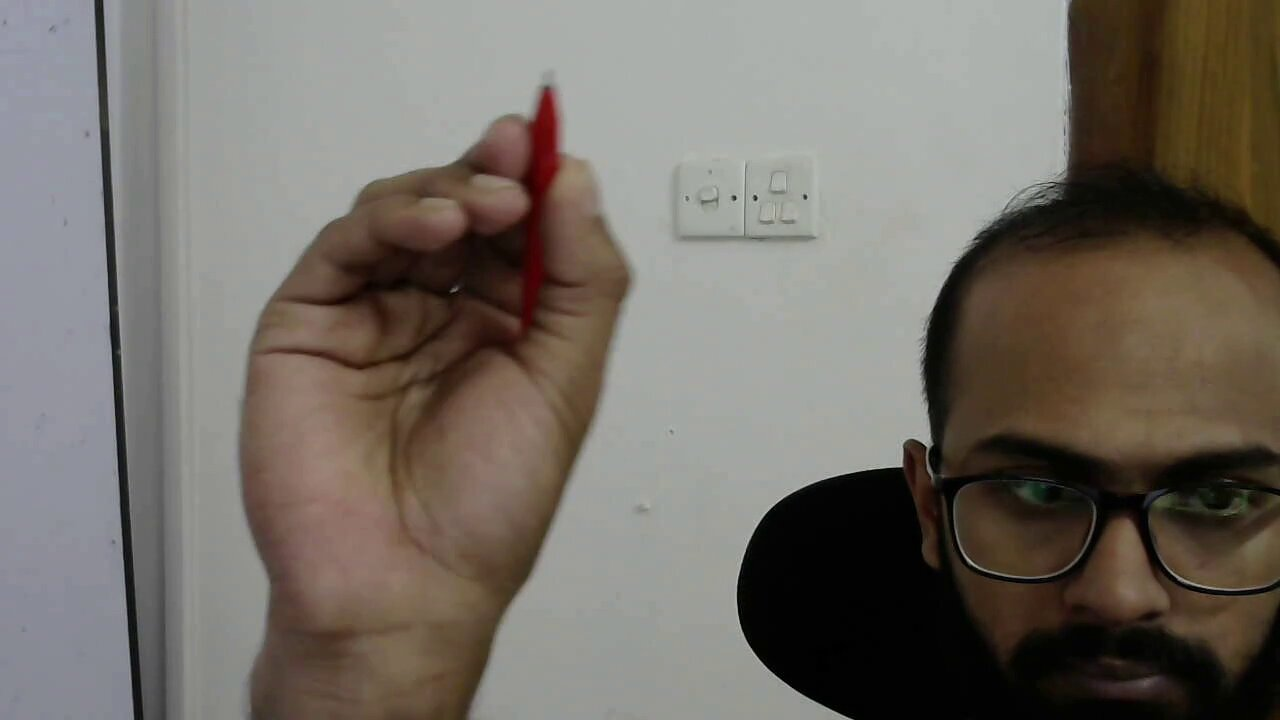pointer: (230, 112, 639, 516)
